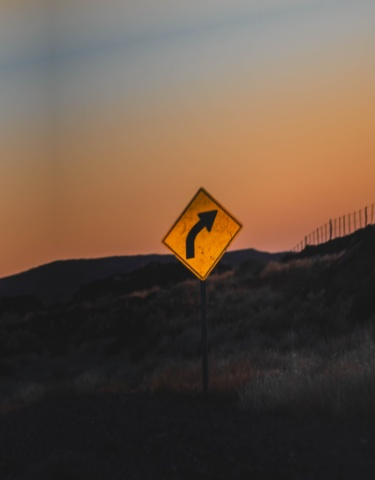Turn right: (149, 165, 246, 285)
